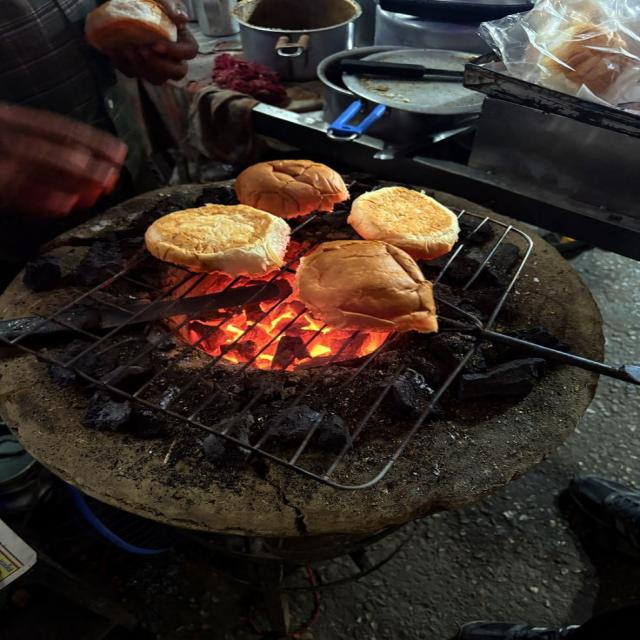fire: (266, 311, 320, 342)
